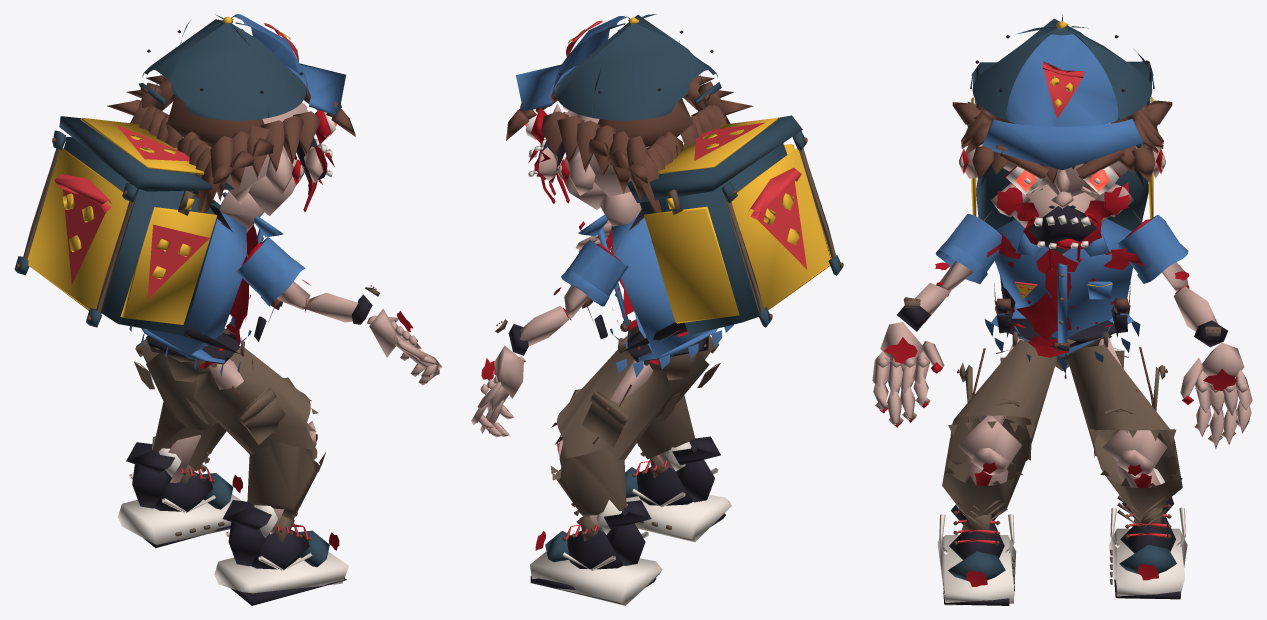
3 views of the same model, side by side, from view 1: azimuth 30°, elevation 25°; view 2: azimuth 150°, elevation 25°; view 3: azimuth 270°, elevation 25° (orthographic). The views are drawn at different scales.
Parts seen in each view (by area): view 1: torso, head, footR, legR, footL, shinR, armR, legL, shinL, handR, hip, foreArmR; view 2: torso, head, footL, legL, footR, shinL, armL, handL, shinR, hip, foreArmL, legR; view 3: head, torso, legL, legR, footR, footL, shinR, shinL, handL, handR, armR, armL (+3 smaller).
Boxes of the visible parts, bbox=[...] form: torso: bbox=[14, 116, 283, 376]; head: bbox=[107, 14, 355, 232]; footR: bbox=[214, 500, 348, 605]; legR: bbox=[185, 331, 318, 459]; footL: bbox=[118, 436, 242, 548]; shinR: bbox=[247, 421, 325, 534]; armR: bbox=[236, 237, 310, 309]; legL: bbox=[134, 339, 217, 429]; shinL: bbox=[152, 401, 226, 482]; handR: bbox=[367, 308, 441, 385]; hip: bbox=[146, 322, 244, 382]; foreArmR: bbox=[302, 279, 379, 324]; torso: bbox=[578, 115, 843, 377]; head: bbox=[506, 14, 753, 226]; footL: bbox=[530, 499, 662, 605]; legL: bbox=[551, 334, 680, 465]; footR: bbox=[625, 436, 731, 542]; shinL: bbox=[550, 434, 626, 531]; armL: bbox=[561, 240, 628, 318]; handL: bbox=[471, 345, 525, 437]; shinR: bbox=[637, 395, 695, 469]; hip: bbox=[617, 319, 708, 380]; foreArmL: bbox=[495, 287, 570, 355]; legR: bbox=[618, 335, 720, 418]; head: bbox=[952, 14, 1172, 272]; torso: bbox=[965, 61, 1157, 373]; legL: bbox=[1068, 335, 1175, 458]; legR: bbox=[948, 333, 1057, 464]; footR: bbox=[937, 503, 1015, 605]; footL: bbox=[1108, 468, 1187, 599]; shinR: bbox=[942, 415, 1030, 525]; shinL: bbox=[1094, 430, 1182, 527]; handL: bbox=[1180, 342, 1252, 449]; handR: bbox=[872, 322, 944, 427]; armR: bbox=[936, 214, 1001, 290]; armL: bbox=[1118, 215, 1188, 291].
Size of the model in its own units: 1.07 by 1.8 by 1.12.
